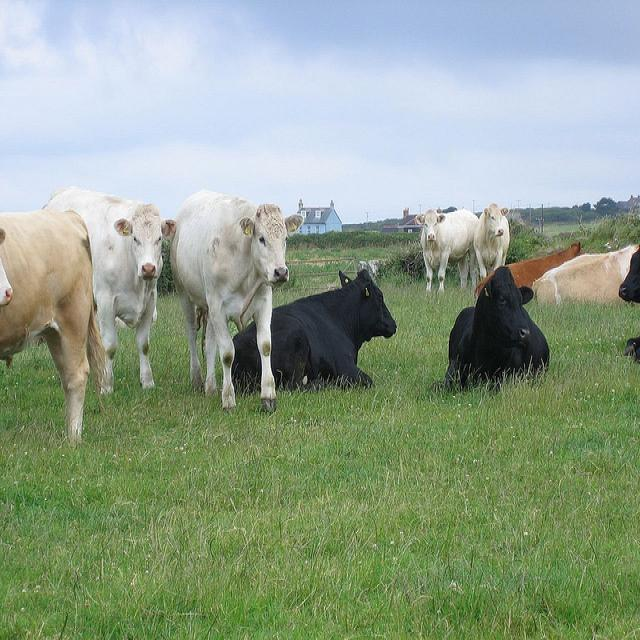cow: (169, 185, 288, 412), (46, 184, 170, 392), (0, 208, 104, 439), (228, 268, 393, 397), (431, 264, 547, 395), (531, 241, 639, 304), (477, 239, 583, 295), (413, 206, 477, 298), (472, 200, 509, 280), (617, 246, 638, 362), (617, 244, 639, 301)
